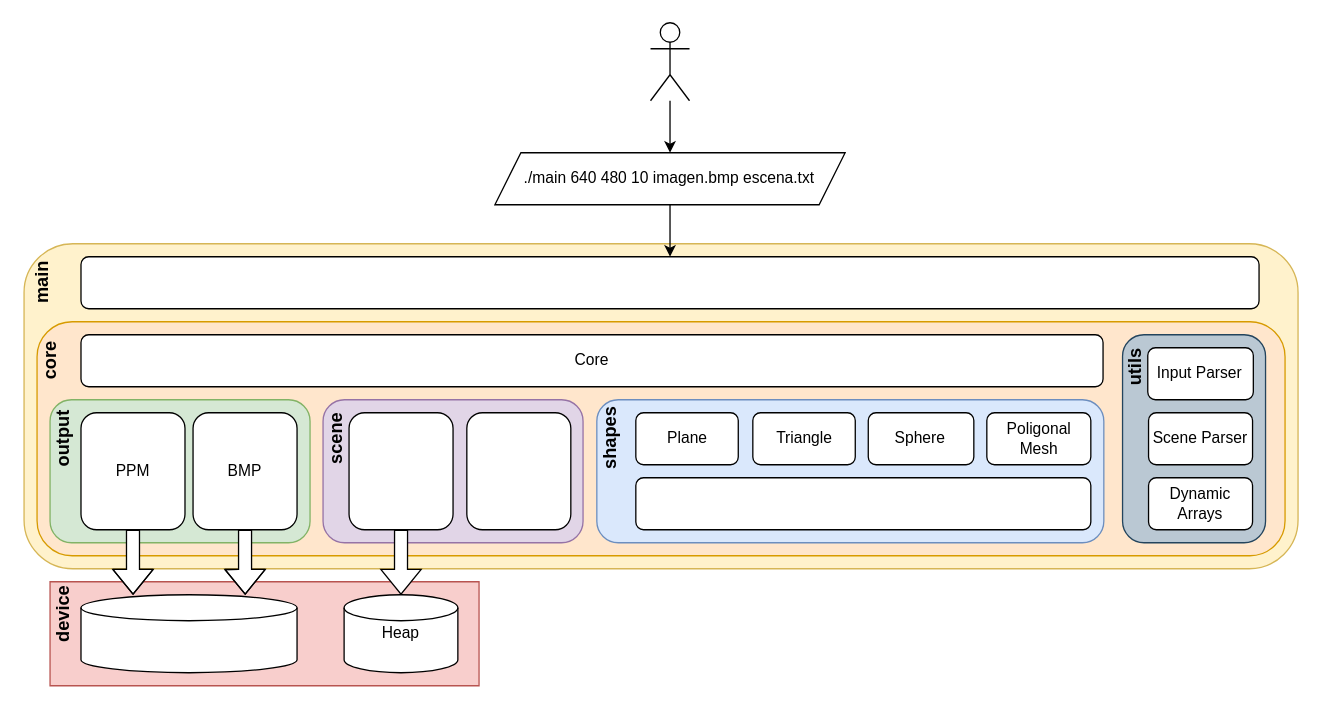
Some shapes in this 1321 by 709 pixel diagram are drawn without their labels. Each missing label, with the centre of its shape:
"Application" belongs at (x=669, y=282).
"Canvas" belongs at (x=400, y=470).
"Lights" belongs at (x=518, y=470).
"Storage" belongs at (x=188, y=633).
"Usuario" belongs at (x=669, y=61).
"Vector" belongs at (x=863, y=503).
